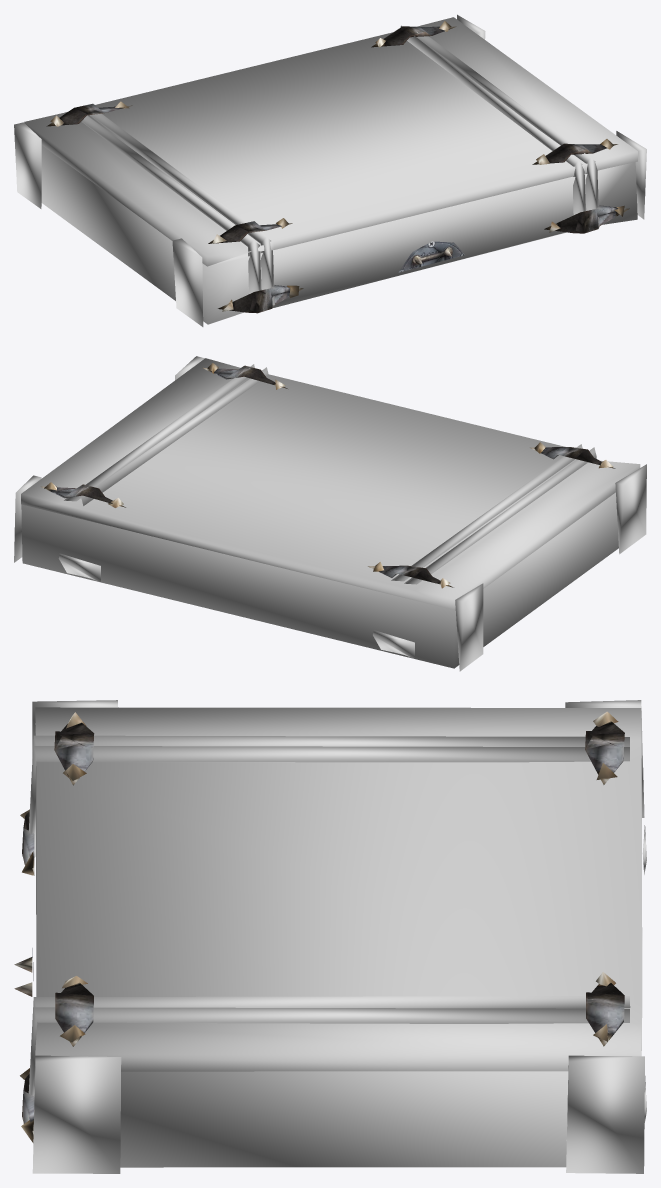
The model's file is Lid.fbx.
3 renders of one model, top to bottom at view 1: azimuth 30°, elevation 25°; view 2: azimuth 150°, elevation 25°; view 3: azimuth 270°, elevation 25°, orthographic. The views are drawn at different scales.
Visible parts, largest first — view 1: Lid; view 2: Lid; view 3: Lid.
Boxes of the visible parts, x1,y1,x2,y2 form: Lid: [14, 14, 646, 326]; Lid: [14, 356, 646, 671]; Lid: [14, 700, 646, 1173].
Bounding box in the file's own units: 32.16 × 5.36 × 23.75.
2 materials, 1 textured.
